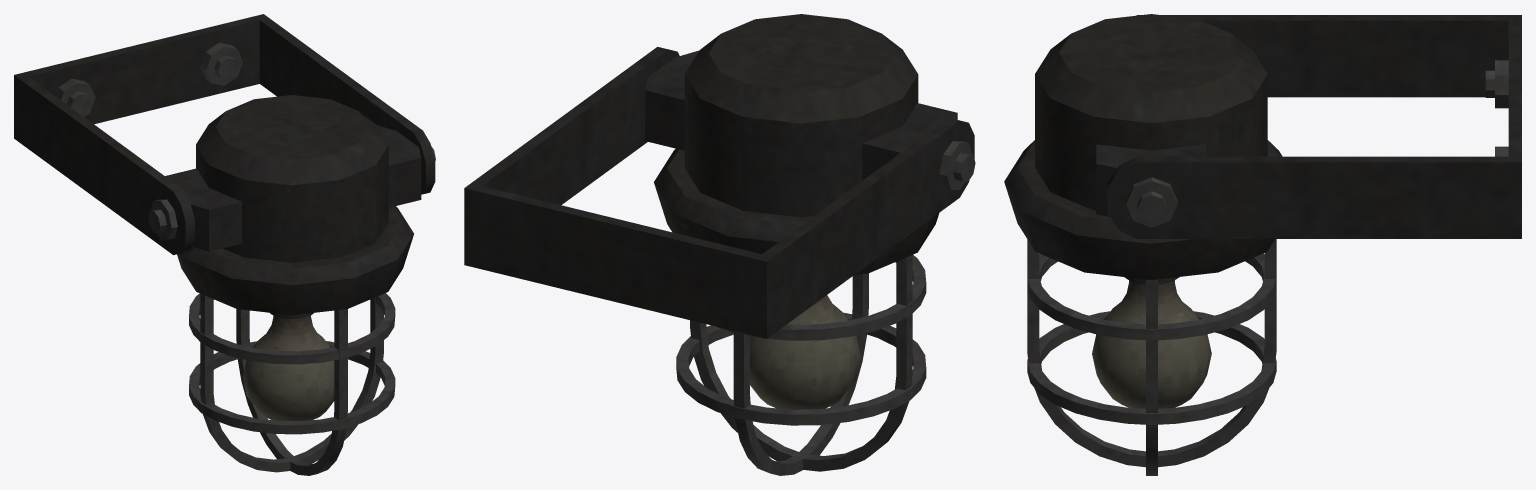
File: lamp_mx_1_a_1_off.obj
3 views of the same model, side by side, from view 1: azimuth 30°, elevation 25°; view 2: azimuth 150°, elevation 25°; view 3: azimuth 270°, elevation 25° (orthographic). The views are drawn at different scales.
Visible parts, largest first — view 1: lamp_mx_1_a_1_off; view 2: lamp_mx_1_a_1_off; view 3: lamp_mx_1_a_1_off.
Boxes of the visible parts, left/top/right/bottom form: lamp_mx_1_a_1_off: left=14, top=14, right=435, bottom=475; lamp_mx_1_a_1_off: left=464, top=14, right=975, bottom=475; lamp_mx_1_a_1_off: left=1004, top=14, right=1521, bottom=475.
Size of the model in its own units: 0.2245 by 0.2657 by 0.3023.
